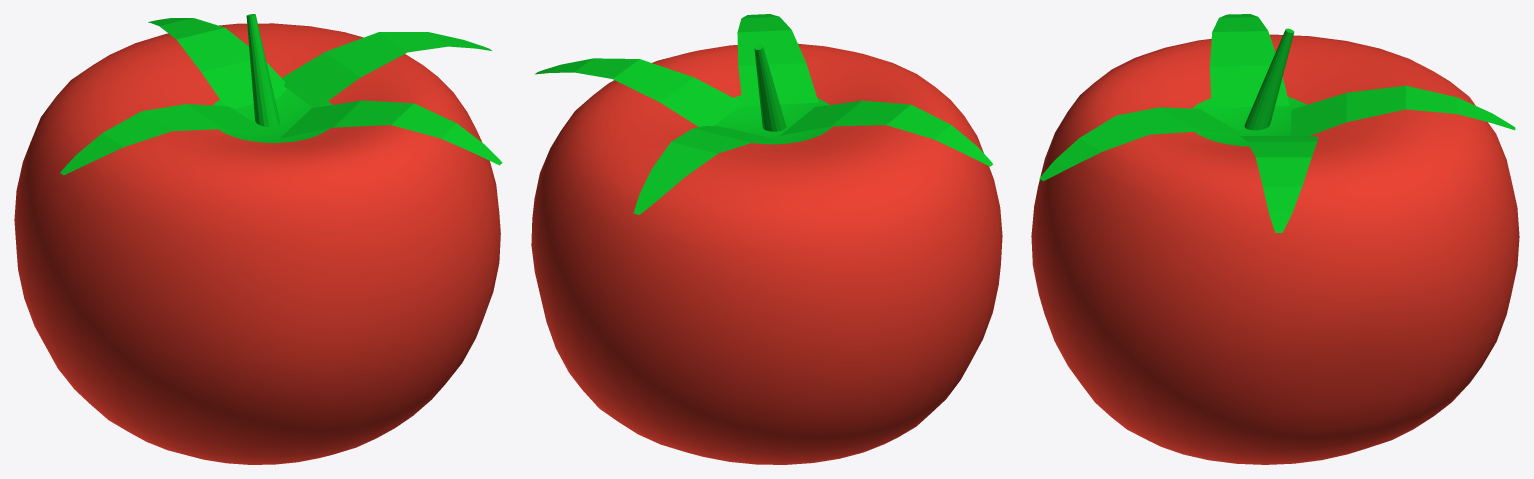
The model's file is Tomato_model.fbx.
The picture shows the model from 3 angles, left to right: view 1: azimuth 30°, elevation 25°; view 2: azimuth 150°, elevation 25°; view 3: azimuth 270°, elevation 25°; orthographic projection. The views are drawn at different scales.
Parts seen in each view (by area): view 1: Tomato_model; view 2: Tomato_model; view 3: Tomato_model.
Part boxes in pixels (x1,y1,x2,y2): Tomato_model: (14,14,502,464); Tomato_model: (531,14,1002,464); Tomato_model: (1031,14,1519,464).
Size of the model in its own units: 205 by 174 by 193.
